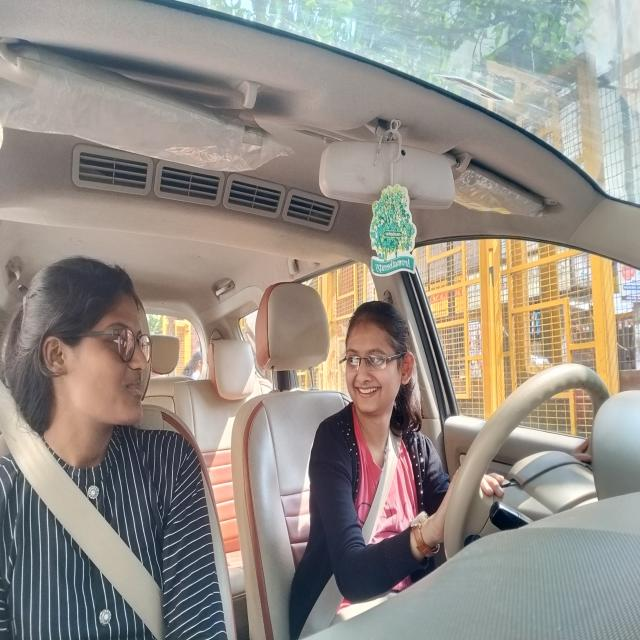LeftRight: (340, 301, 412, 417)
person: (21, 254, 158, 437)
talking: (355, 382, 385, 400)
